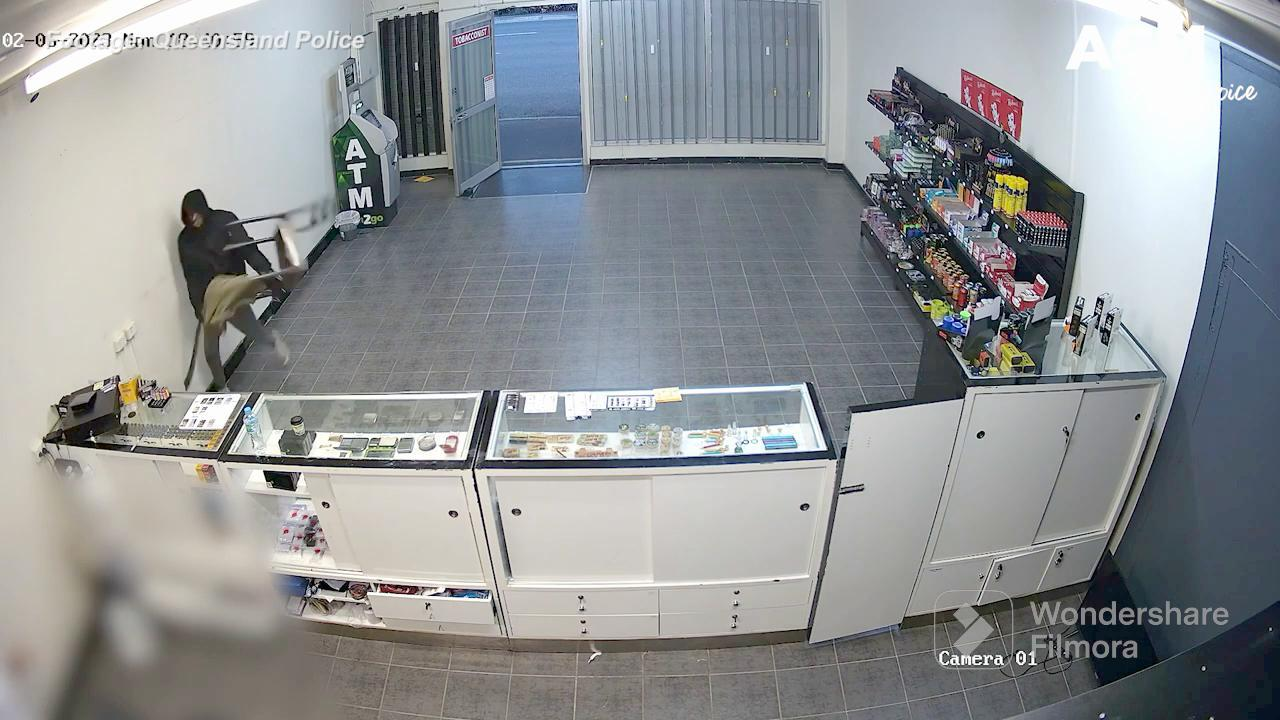melee: (174, 312, 209, 391)
